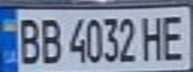0: (84, 15, 103, 64)
2: (118, 14, 139, 63)
3: (103, 15, 121, 64)
4: (63, 13, 87, 64)
B: (12, 14, 42, 65), (36, 14, 63, 65)
E: (157, 11, 190, 62)
H: (139, 11, 169, 62)
